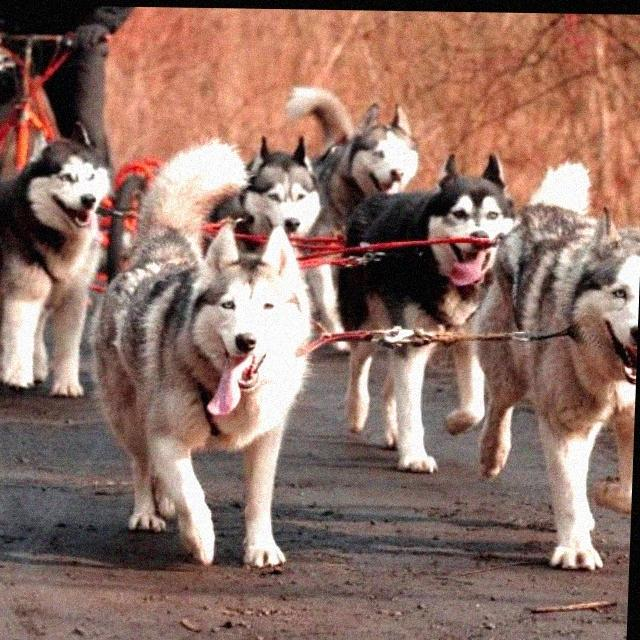dog: (78, 216, 338, 574)
